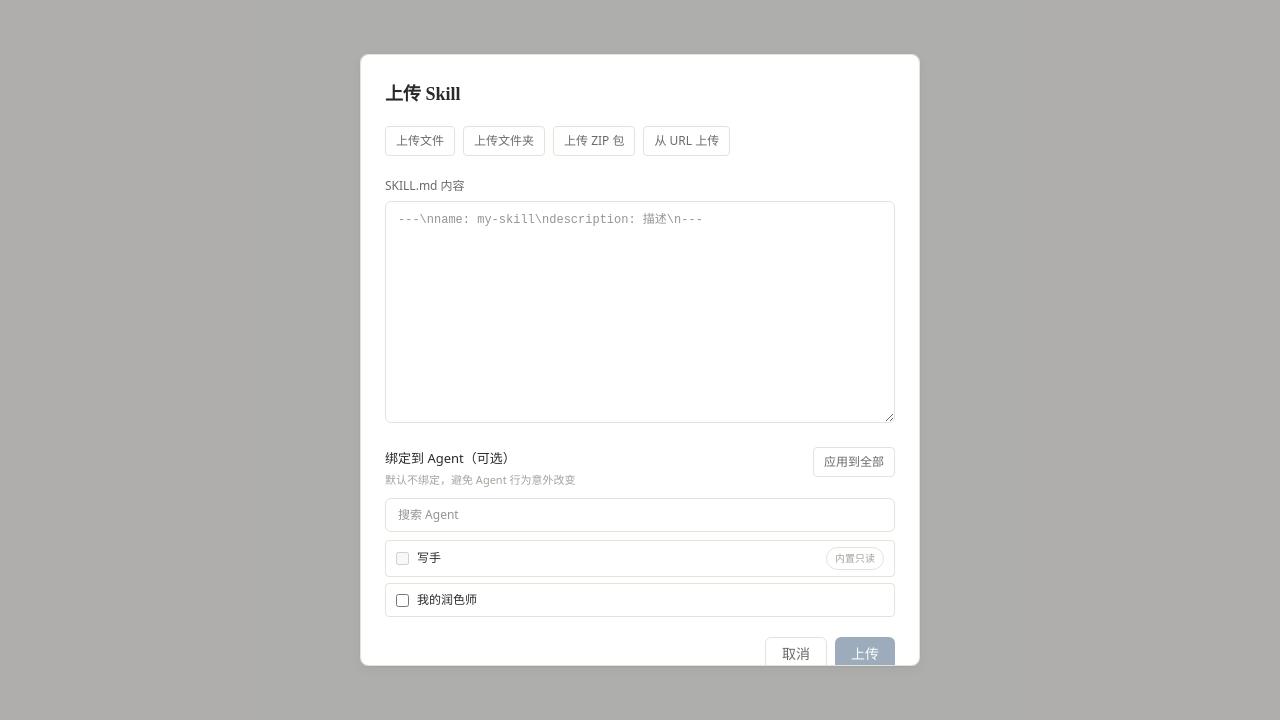
Test: SkillUploadDialog — frontmatter 预览 › 合法内容 → 预览 name/description/tags
Type "--- name: outline-method description: 大纲方法论 --- # 大纲 - 先规划" into the text box with test id "skill-upload-content".
click(640, 312); type("--- name: outline-method description: 大纲方法论 --- # 大纲 - 先规划")  # box x1=385 y1=202 x2=895 y2=423
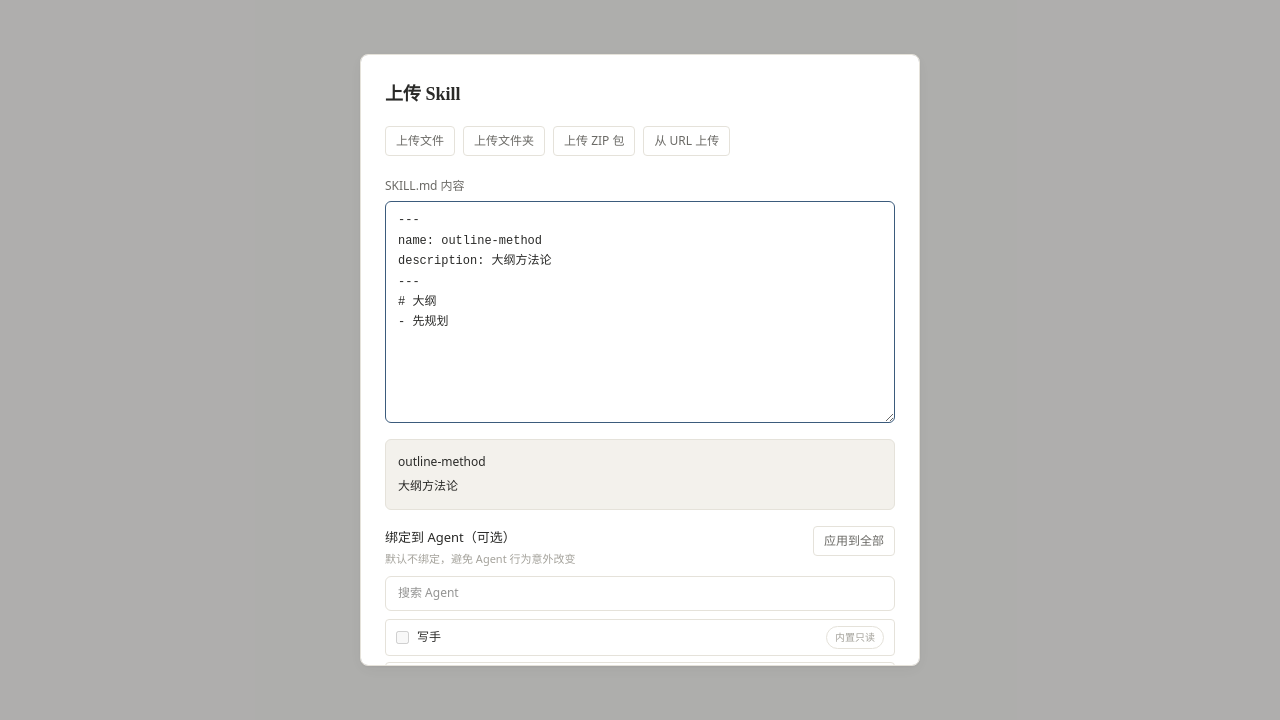
Result: the text with test id "skill-upload-preview-name" reads "outline-method" at x1=398 y1=453 x2=486 y2=470
Result: the text with test id "skill-upload-preview-desc" reads "大纲方法论" at x1=398 y1=477 x2=458 y2=494
